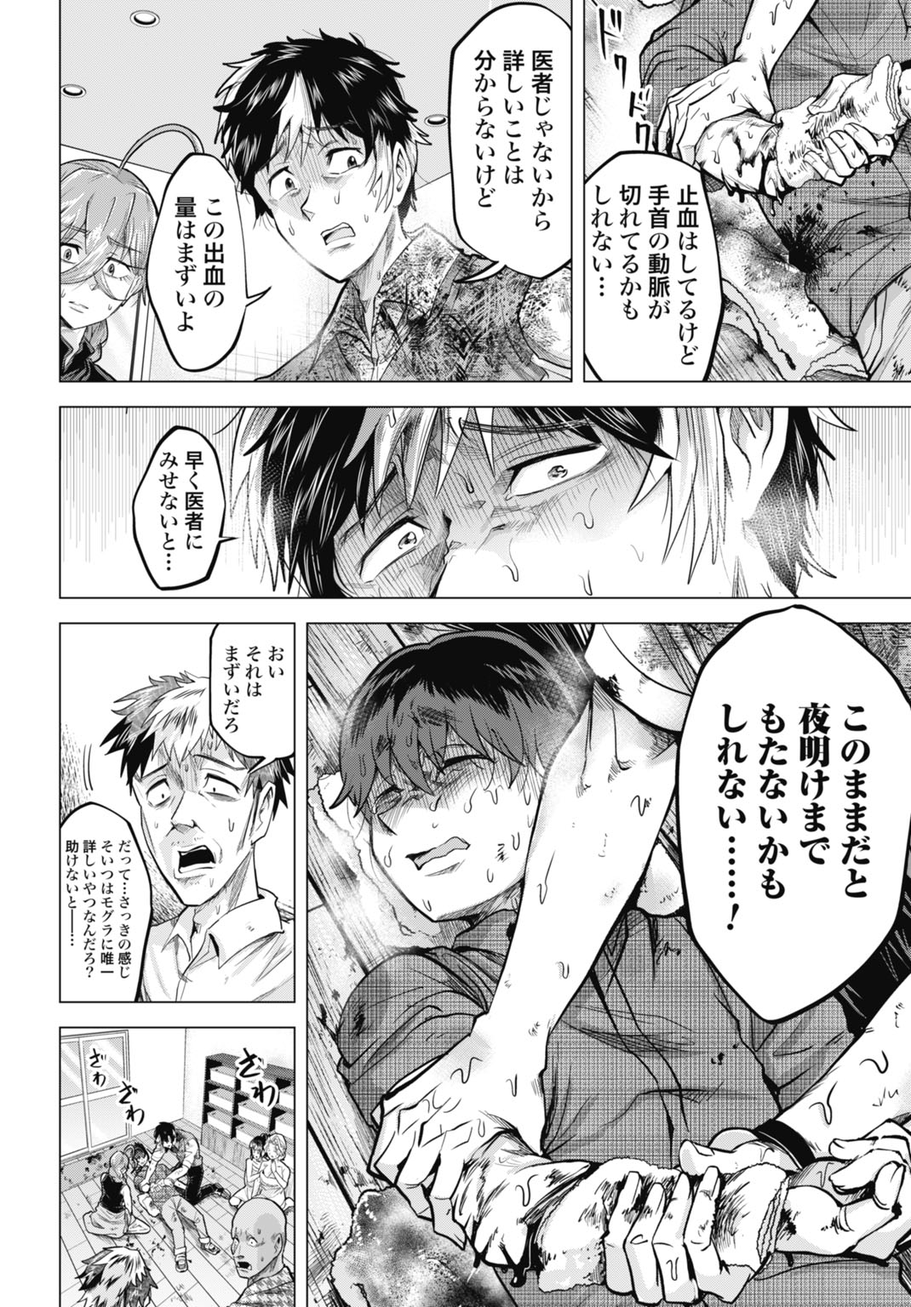bubbles: (672, 600, 911, 1024), (440, 1, 576, 287), (582, 143, 727, 382), (142, 142, 276, 375), (56, 794, 156, 1010), (124, 423, 240, 594), (202, 623, 299, 792)
